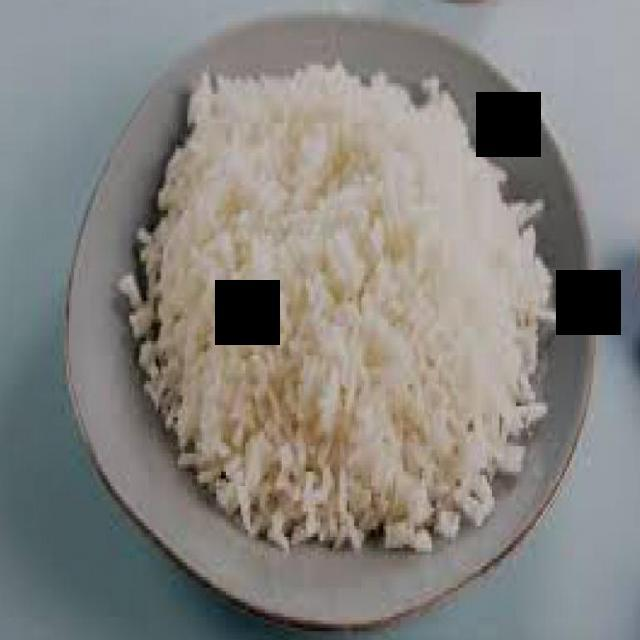rice: (130, 63, 554, 553)
